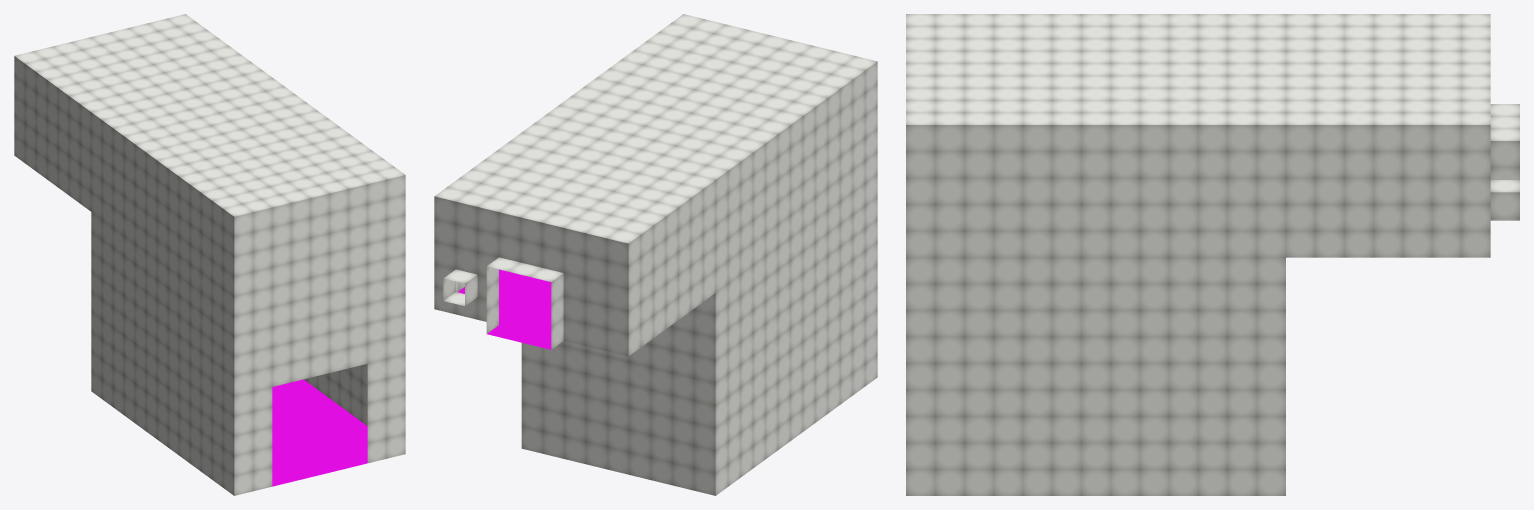
Rendered from bounce.fbx.
3 renders of one model, left to right at view 1: azimuth 30°, elevation 25°; view 2: azimuth 150°, elevation 25°; view 3: azimuth 270°, elevation 25°, orthographic. The views are drawn at different scales.
Parts seen in each view (by area): view 1: bounce; view 2: bounce; view 3: bounce.
Boxes of the visible parts, left/top/right/bottom form: bounce: left=14, top=14, right=405, bottom=495; bounce: left=434, top=14, right=877, bottom=495; bounce: left=906, top=14, right=1519, bottom=495.
Size of the model in its own units: 21 by 9 by 14.
2 materials, 1 textured.
